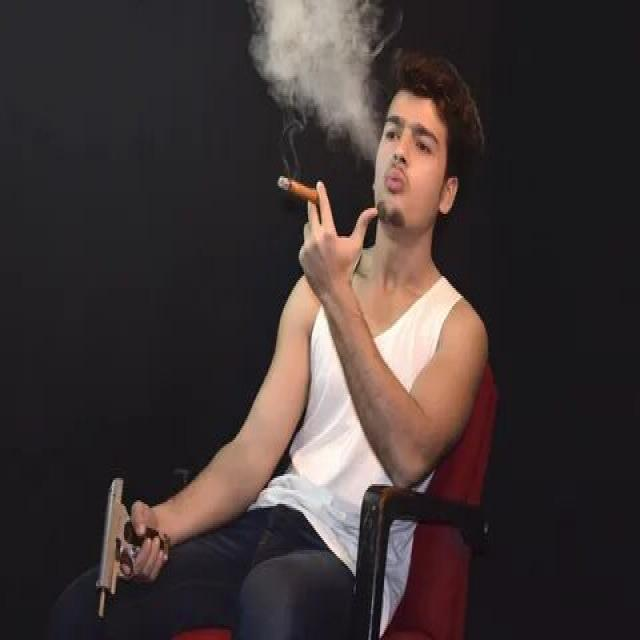cigarette: (276, 170, 323, 204)
